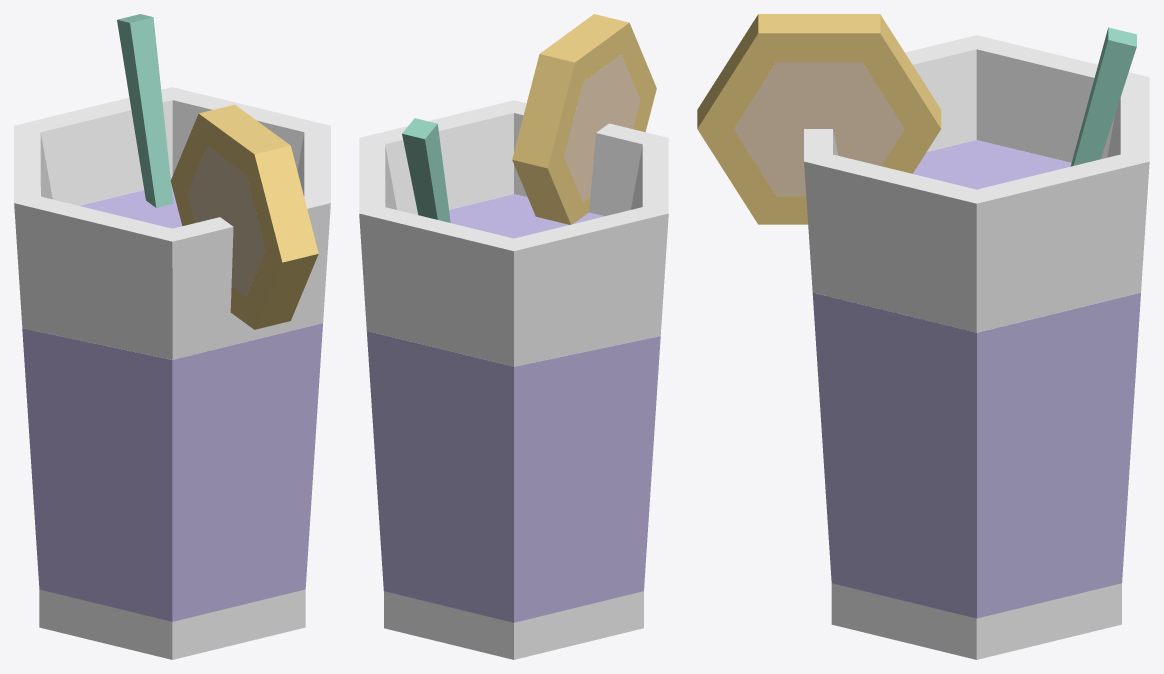
Rendered from soda-glass.glb.
3 renders of one model, left to right at view 1: azimuth 30°, elevation 25°; view 2: azimuth 150°, elevation 25°; view 3: azimuth 270°, elevation 25°, orthographic. The views are drawn at different scales.
Visible parts, largest first — view 1: sodaGlass, lemon, straw; view 2: sodaGlass, lemon, straw; view 3: sodaGlass, lemon, straw.
Boxes of the visible parts, x1=… form: sodaGlass: x1=14, y1=87, x2=330, y2=659; lemon: x1=170, y1=104, x2=318, y2=329; straw: x1=117, y1=14, x2=173, y2=207; sodaGlass: x1=359, y1=100, x2=668, y2=659; lemon: x1=512, y1=14, x2=656, y2=224; straw: x1=402, y1=118, x2=450, y2=222; sodaGlass: x1=804, y1=35, x2=1149, y2=659; lemon: x1=697, y1=14, x2=941, y2=224; straw: x1=1070, y1=27, x2=1136, y2=166.
Bounding box in the file's own units: 0.2618 × 0.4134 × 0.2967.
